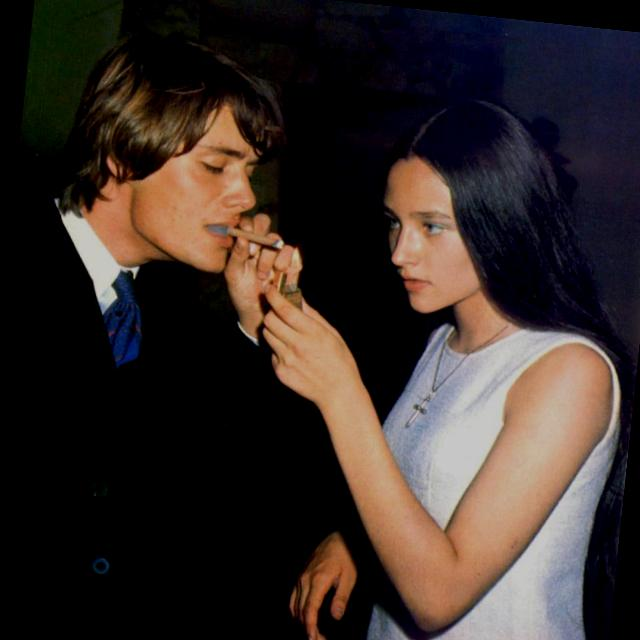cigarette: (202, 216, 300, 267)
